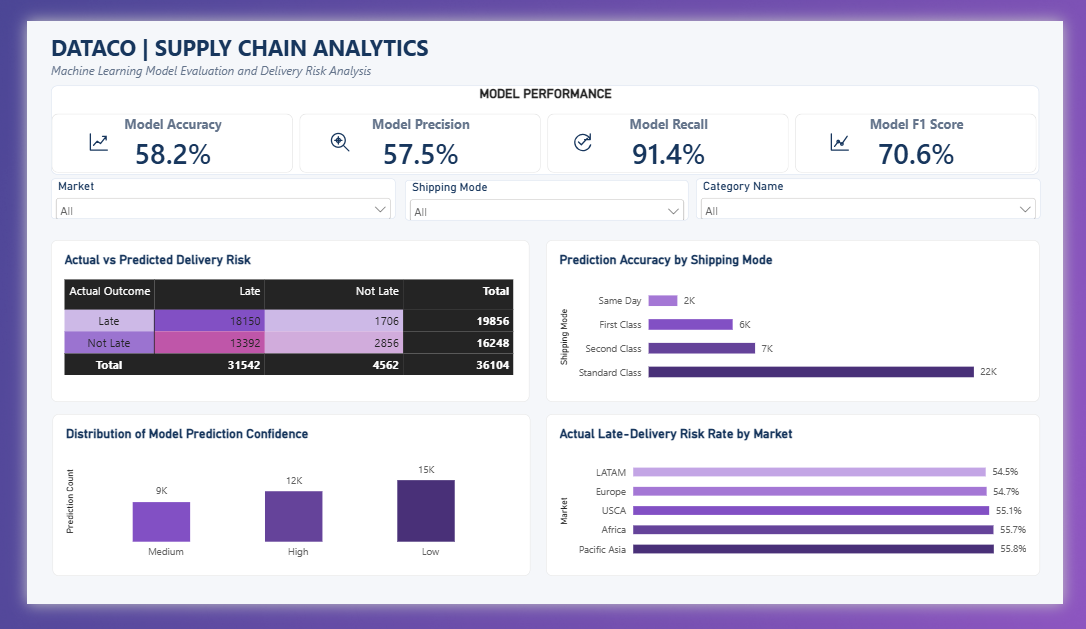

The page's visual inventory and layout, read from the dashboard file:
{"tool":"powerbi","page":{"name":"Late-Delivery Prediction","canvas":[1280,720],"ordinal":3},"visuals":[{"type":"cardVisual","title":"MODEL PERFORMANCE","fields":{"Data":["Measure.Model Accuracy","Measure.Model Precision","Measure.Model Recall","Measure.Model F1 Score"]},"box":[30,80.2,1220,109.8],"z":0,"group":"g1"},{"type":"pivotTable","title":"Actual vs Predicted Delivery Risk","fields":{"Columns":["Late_Delivery_Predictions.Predicted Outcome"],"Rows":["Late_Delivery_Predictions.Actual Outcome"],"Values":["Measure.Prediction Count"]},"box":[29.7,270.4,590.8,200.1],"z":0},{"type":"textbox","box":[30,15,900,65.2],"z":1000,"group":"g1"},{"type":"image","box":[71.9,134.4,32,32],"z":2000,"group":"g1"},{"type":"slicer","fields":{"Values":["Late_Delivery_Predictions.Market"]},"box":[29.7,195,425,50],"z":2000},{"type":"image","box":[370.4,134.4,32,32],"z":3000,"group":"g1"},{"type":"slicer","fields":{"Values":["Late_Delivery_Predictions.Shipping Mode"]},"box":[465.8,195.4,350,50],"z":3000},{"type":"image","box":[670.5,134.4,32,32],"z":4000,"group":"g1"},{"type":"slicer","fields":{"Values":["Late_Delivery_Predictions.Category Name"]},"box":[825.3,195,425.1,50],"z":4000},{"type":"image","box":[987.8,134.4,32,32],"z":5000,"group":"g1"},{"type":"barChart","title":"Prediction Accuracy by Shipping Mode","fields":{"Category":["Late_Delivery_Predictions.Shipping Mode"],"Y":["Measure.Prediction Count"]},"box":[640.8,270.4,609.6,200.1],"z":5000},{"type":"clusteredColumnChart","title":"Distribution of Model Prediction Confidence","fields":{"Category":["Late_Delivery_Predictions.Confidence Band"],"Y":["Measure.Prediction Count"]},"box":[31,485,590,200],"z":6000},{"type":"clusteredBarChart","title":"Actual Late-Delivery Risk Rate by Market","fields":{"Category":["Late_Delivery_Predictions.Market"],"Y":["Measure.Actual Late Risk Rate"]},"box":[640.7,484.7,610.2,200],"z":7000},{"type":"group","id":"g1","title":"Group 1","box":[30,15,1220,175],"z":7005}]}

Visuals, with their boxes in screenshot pixels (x1, y1, x2, y2), scaled from the page's 1280x720 canvas onto the 1086x629 screenshot:
"MODEL PERFORMANCE" cardVisual: l=25, t=70, r=1061, b=166
"Actual vs Predicted Delivery Risk" pivotTable: l=25, t=236, r=526, b=411
textbox: l=25, t=13, r=789, b=70
image: l=61, t=117, r=88, b=145
slicer - Late_Delivery_Predictions.Market: l=25, t=170, r=386, b=214
image: l=314, t=117, r=341, b=145
slicer - Late_Delivery_Predictions.Shipping Mode: l=395, t=171, r=692, b=214
image: l=569, t=117, r=596, b=145
slicer - Late_Delivery_Predictions.Category Name: l=700, t=170, r=1061, b=214
image: l=838, t=117, r=865, b=145
"Prediction Accuracy by Shipping Mode" barChart: l=544, t=236, r=1061, b=411
"Distribution of Model Prediction Confidence" clusteredColumnChart: l=26, t=424, r=527, b=598
"Actual Late-Delivery Risk Rate by Market" clusteredBarChart: l=544, t=423, r=1061, b=598
"Group 1" group: l=25, t=13, r=1061, b=166
